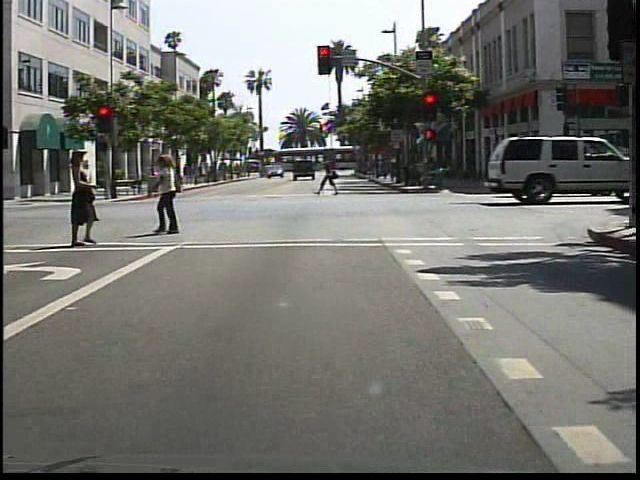person: (60, 147, 103, 249), (150, 155, 190, 236), (317, 151, 343, 199), (161, 160, 175, 187), (3, 150, 6, 254)
